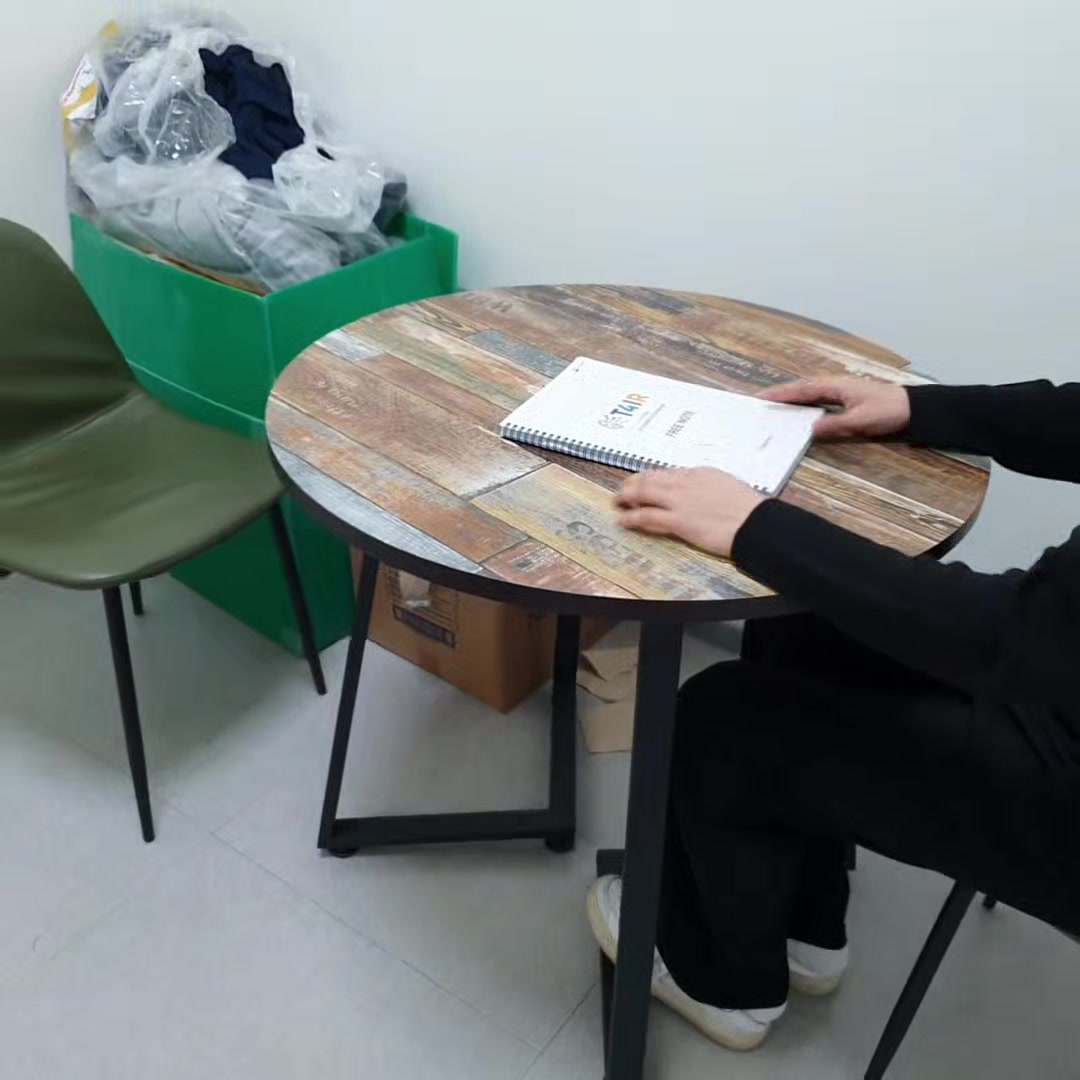book: (495, 348, 841, 515)
